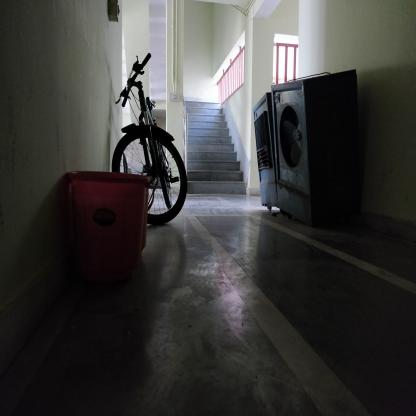stairs: (190, 102, 219, 199)
